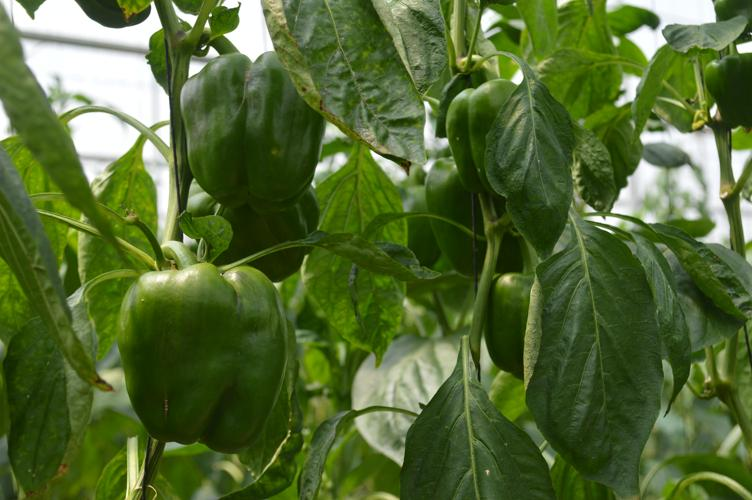BellPepper: (113, 266, 286, 453), (170, 51, 328, 205), (426, 160, 520, 272), (440, 80, 523, 197), (211, 192, 320, 281), (479, 272, 533, 379), (704, 54, 748, 126)
